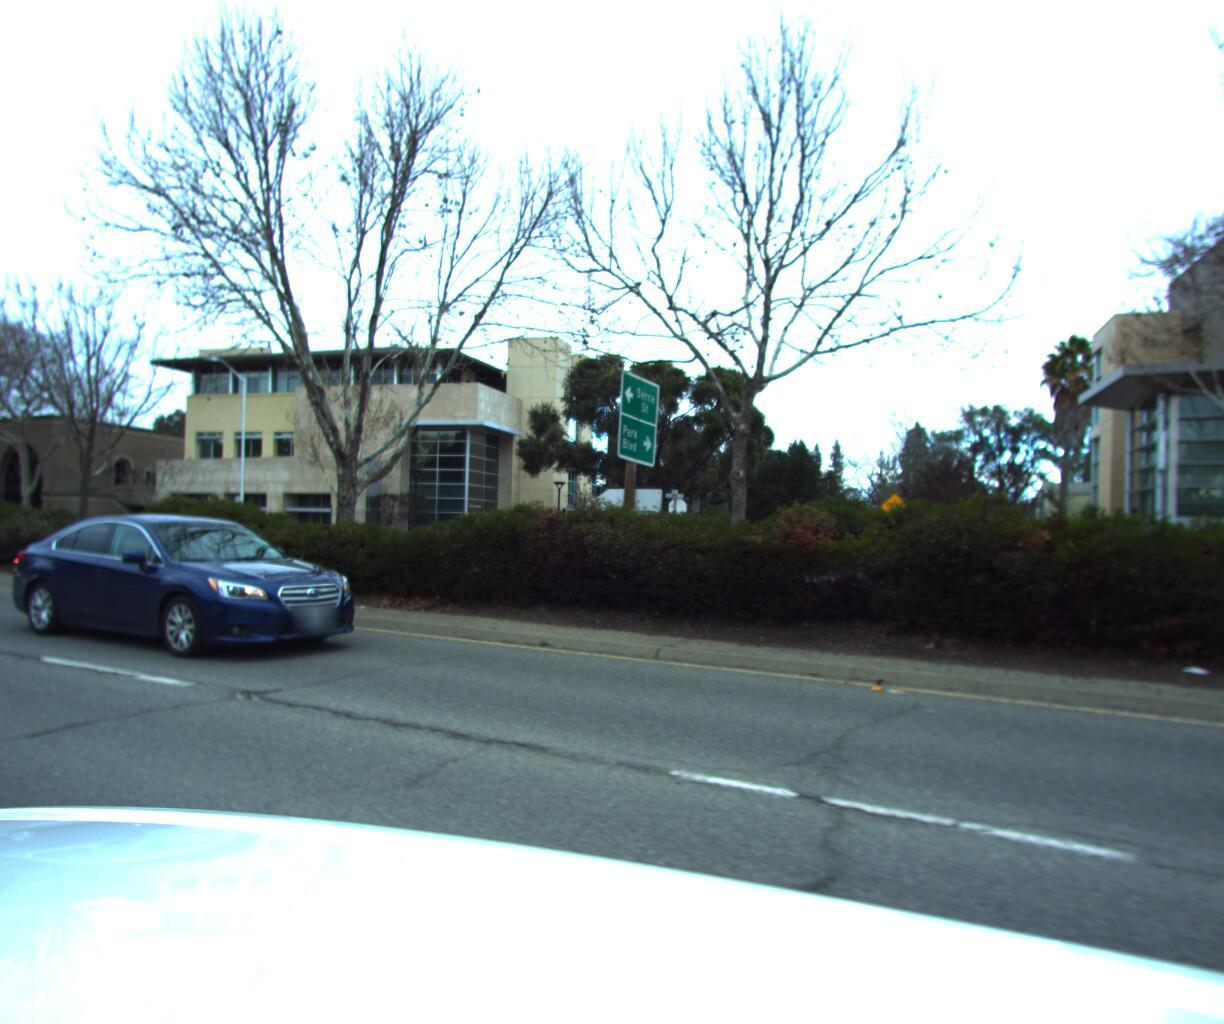car: (6, 507, 376, 665)
